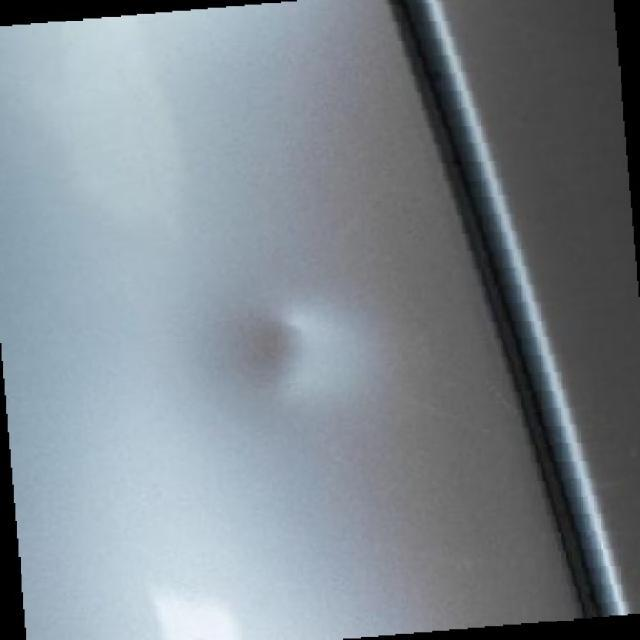dent: (225, 307, 360, 435)
